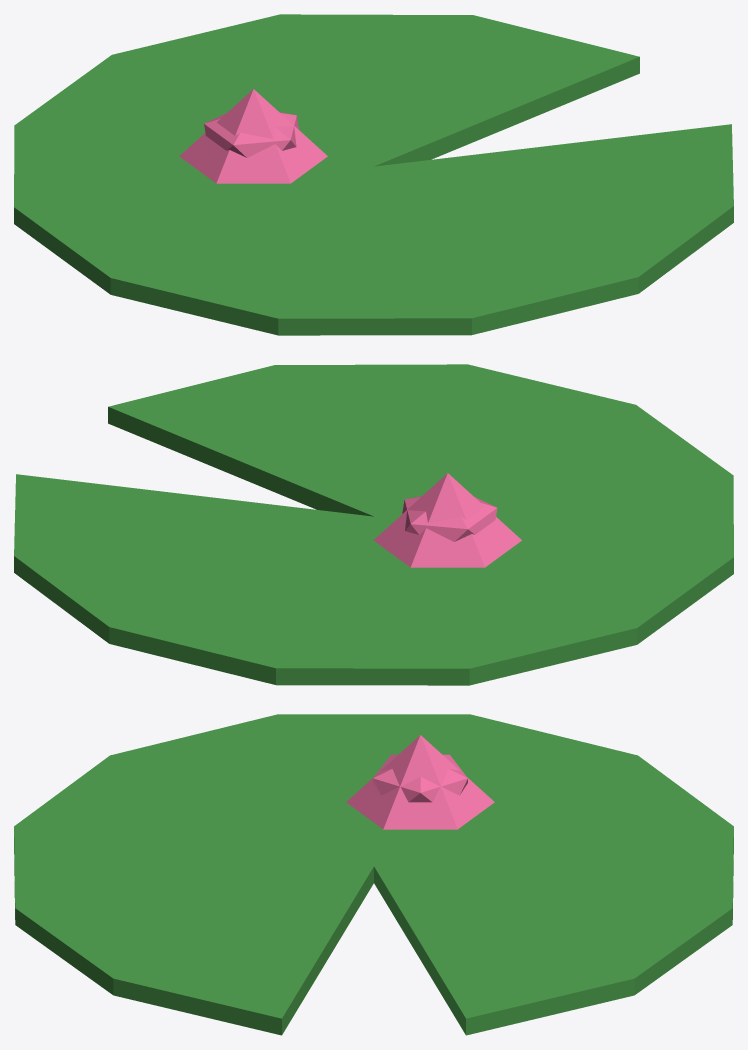
Rendered from nature2_lily_pad.glb.
The picture shows the model from 3 angles, top to bottom: view 1: azimuth 30°, elevation 25°; view 2: azimuth 150°, elevation 25°; view 3: azimuth 270°, elevation 25°; orthographic projection.
Visible parts, largest first — view 1: lily_pad; view 2: lily_pad; view 3: lily_pad.
Boxes of the visible parts, bbox=[...] form: lily_pad: bbox=[14, 14, 733, 335]; lily_pad: bbox=[14, 364, 733, 685]; lily_pad: bbox=[14, 714, 733, 1035].
Size of the model in its own units: 0.7738 by 0.12 by 0.7738.
